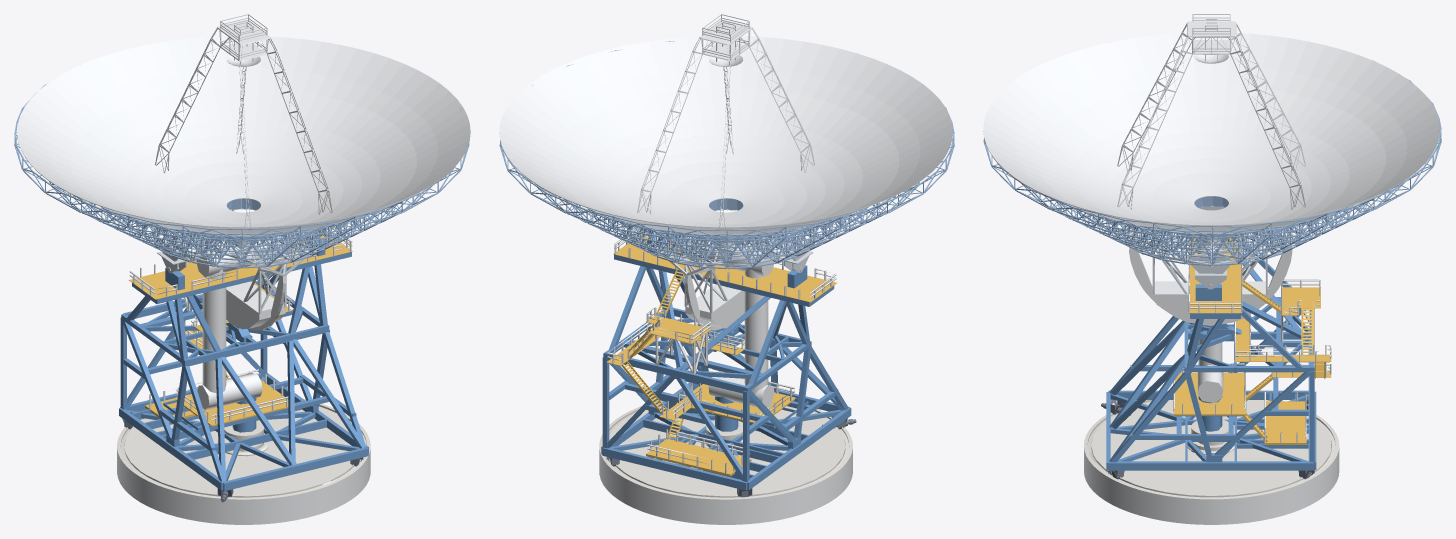
Rendered from dsn-34m.glb.
3 renders of one model, left to right at view 1: azimuth 30°, elevation 25°; view 2: azimuth 150°, elevation 25°; view 3: azimuth 270°, elevation 25°, orthographic.
Parts seen in each view (by area): view 1: dish, New Base, dish_center, base, truss_dish, quad, EW Symmetric.001; view 2: dish, New Base, dish_center, base, truss_dish, quad, EW Symmetric.001; view 3: dish, New Base, dish_center, base, truss_dish, quad, EW Symmetric.001.
Part boxes in pixels (bbox=[...]): dish: bbox=[17, 36, 470, 235]; New Base: bbox=[119, 227, 368, 502]; dish_center: bbox=[125, 134, 362, 227]; base: bbox=[117, 396, 370, 524]; truss_dish: bbox=[14, 83, 469, 268]; quad: bbox=[155, 14, 332, 227]; EW Symmetric.001: bbox=[153, 209, 336, 330]; dish: bbox=[499, 36, 952, 235]; New Base: bbox=[601, 227, 856, 497]; dish_center: bbox=[607, 134, 844, 227]; base: bbox=[599, 400, 852, 524]; truss_dish: bbox=[499, 41, 954, 269]; quad: bbox=[637, 14, 814, 227]; EW Symmetric.001: bbox=[632, 227, 815, 330]; dish: bbox=[983, 33, 1439, 233]; New Base: bbox=[1101, 237, 1331, 479]; dish_center: bbox=[1092, 132, 1330, 225]; base: bbox=[1084, 400, 1339, 524]; truss_dish: bbox=[983, 60, 1441, 265]; quad: bbox=[1117, 14, 1305, 209]; EW Symmetric.001: bbox=[1113, 206, 1309, 325].
Size of the model in its own units: 34.02 by 36.79 by 33.97.
